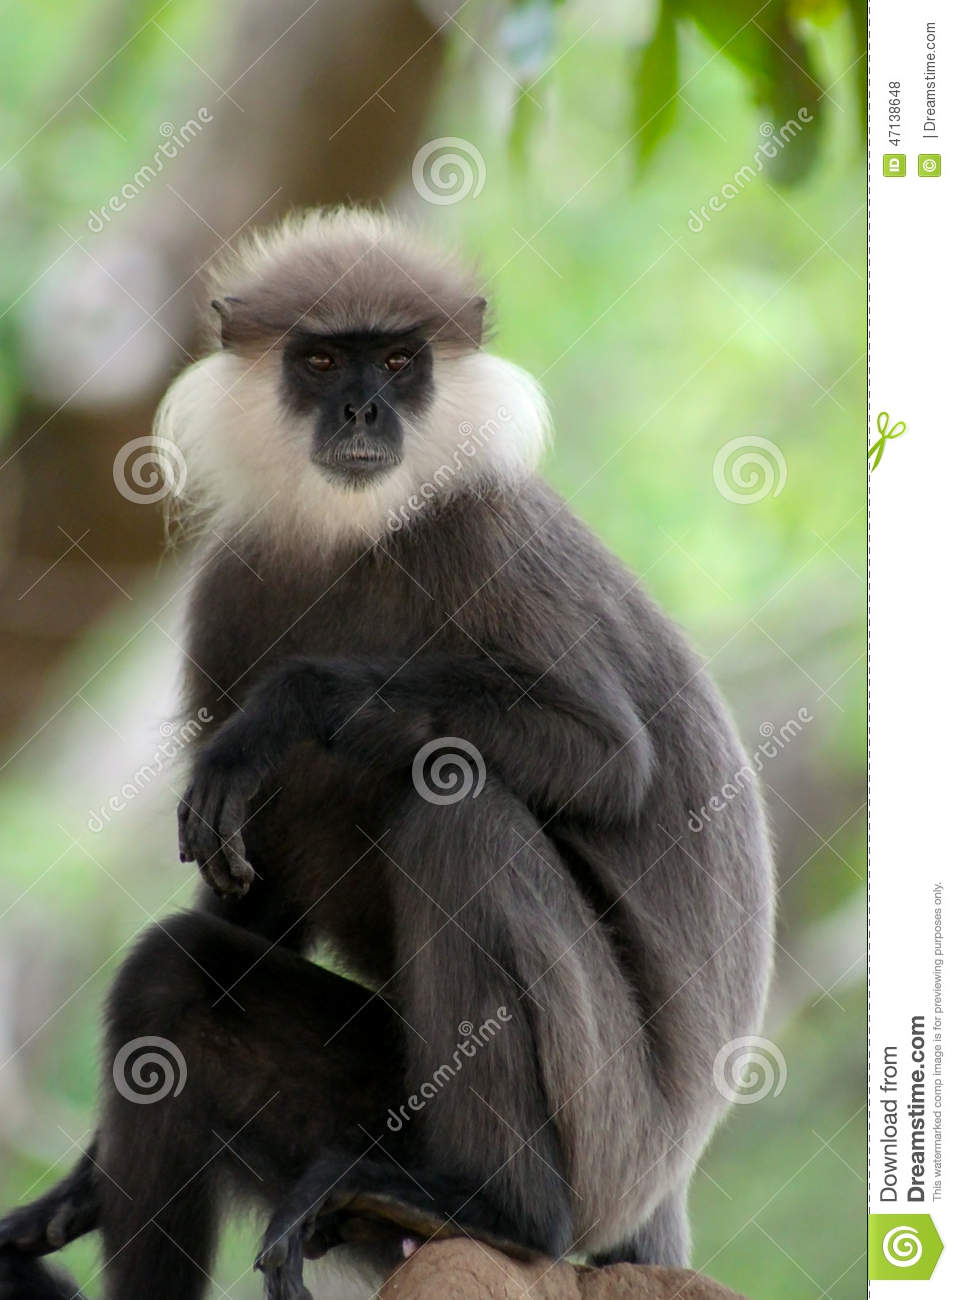Monkey: (56, 186, 802, 1284)
